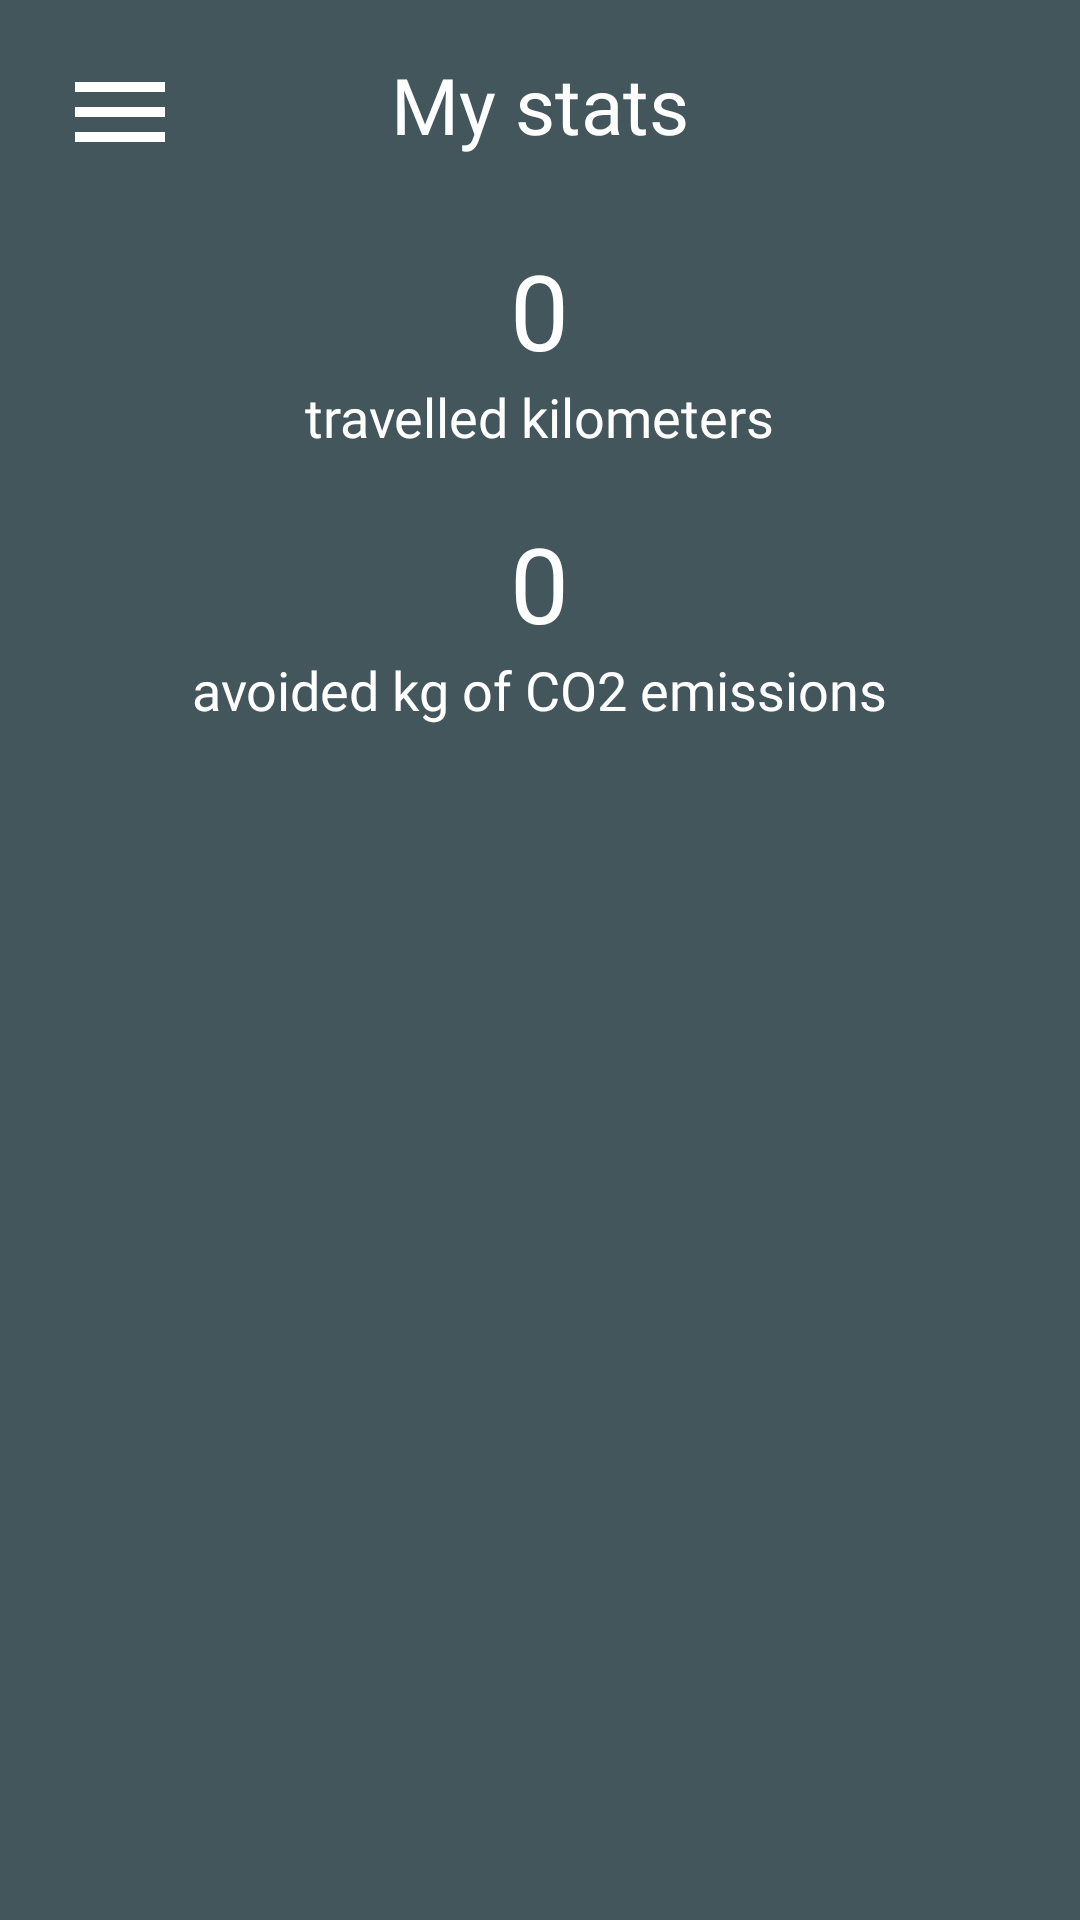

Icon click points for this 1080x1920 phone screenshot, format (x=x, y=y):
menu: (x=120, y=112)
